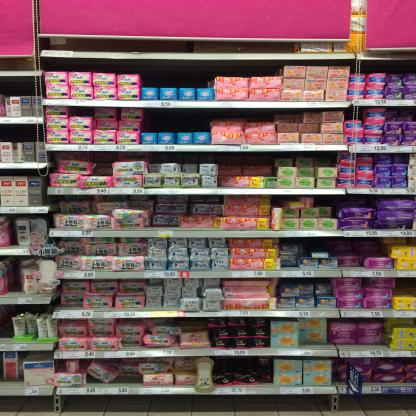Void: (142, 63, 206, 89), (144, 108, 206, 130), (44, 58, 133, 72), (218, 62, 275, 77), (335, 240, 384, 256), (213, 154, 270, 167), (301, 343, 387, 351), (213, 110, 272, 121), (151, 153, 209, 164), (366, 62, 415, 73), (6, 76, 38, 92), (10, 263, 24, 294), (5, 124, 32, 140), (97, 149, 114, 174), (279, 108, 301, 122), (304, 238, 328, 250), (397, 278, 415, 294), (2, 306, 11, 335), (72, 106, 98, 116), (345, 108, 364, 121), (184, 318, 204, 329), (318, 152, 335, 164), (317, 194, 335, 204), (281, 237, 300, 245), (119, 376, 137, 384), (274, 196, 284, 206)
